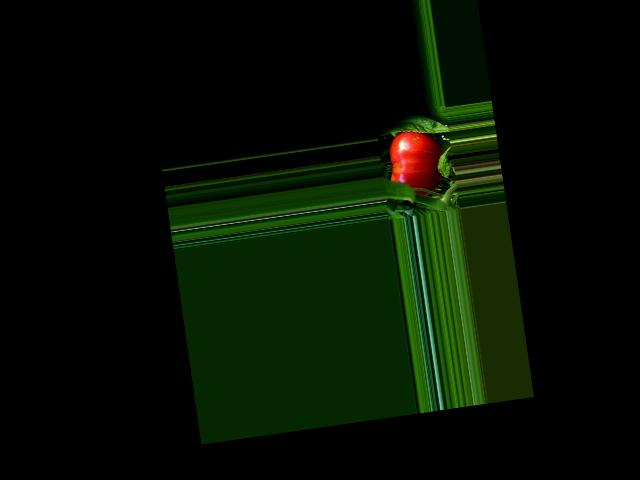tomato: (384, 126, 447, 200)
